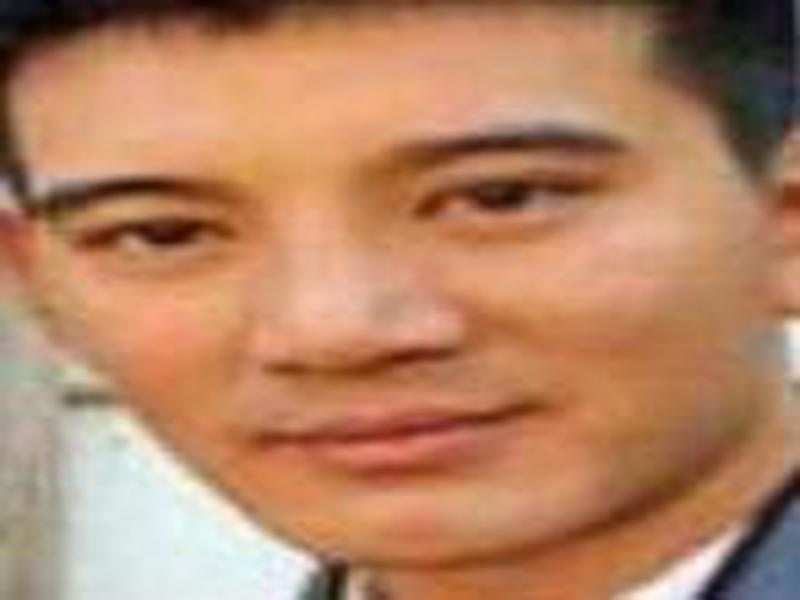without_mask: (8, 34, 766, 568)
